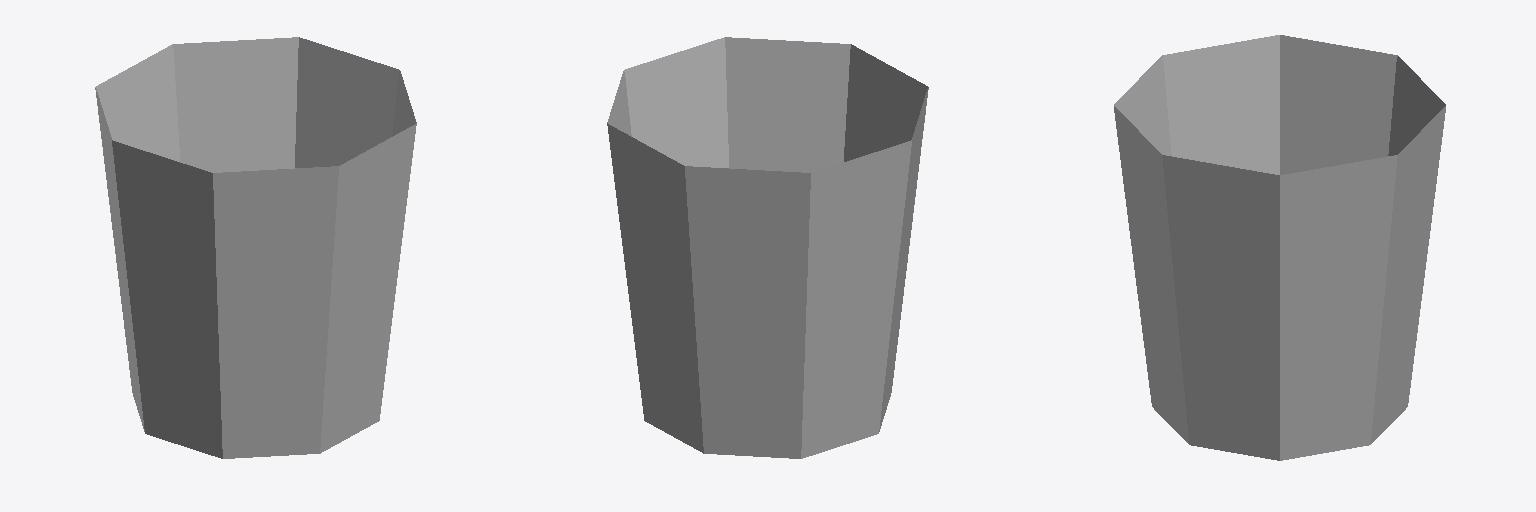
Rendered from hamper_empty.obj.
3 renders of one model, left to right at view 1: azimuth 30°, elevation 25°; view 2: azimuth 150°, elevation 25°; view 3: azimuth 270°, elevation 25°, orthographic.
Visible parts, largest first — view 1: hamper_empty; view 2: hamper_empty; view 3: hamper_empty.
Boxes of the visible parts, box(x1,y1,x2,y2) form: hamper_empty: box(95, 37, 416, 458); hamper_empty: box(607, 37, 928, 458); hamper_empty: box(1114, 35, 1445, 460).
Size of the model in its own units: 2 by 2 by 2.